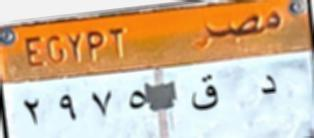2: (22, 97, 45, 130)
5: (126, 86, 149, 115)
7: (88, 87, 117, 121)
9: (58, 91, 81, 123)
daal: (254, 68, 279, 100)
qaaf: (189, 73, 220, 121)
